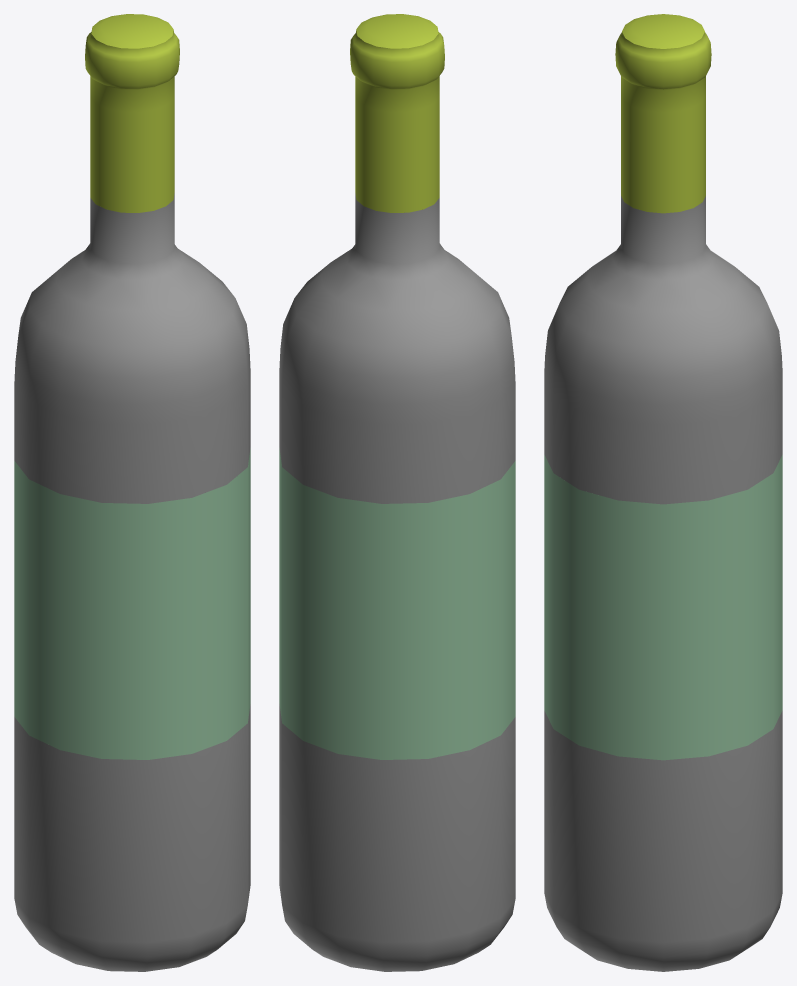
File: House_Bottles.FBX
The picture shows the model from 3 angles, left to right: view 1: azimuth 30°, elevation 25°; view 2: azimuth 150°, elevation 25°; view 3: azimuth 270°, elevation 25°; orthographic projection.
Visible parts, largest first — view 1: House_Bottles_Glass, House_Bottles_Pic, House_Bottles_Open; view 2: House_Bottles_Glass, House_Bottles_Pic, House_Bottles_Open; view 3: House_Bottles_Glass, House_Bottles_Pic, House_Bottles_Open.
Part boxes in pixels (x1=…): House_Bottles_Glass: x1=14, y1=193, x2=250, y2=971; House_Bottles_Pic: x1=14, y1=448, x2=250, y2=759; House_Bottles_Open: x1=85, y1=14, x2=179, y2=212; House_Bottles_Glass: x1=279, y1=193, x2=515, y2=971; House_Bottles_Pic: x1=279, y1=448, x2=515, y2=759; House_Bottles_Open: x1=350, y1=14, x2=444, y2=212; House_Bottles_Glass: x1=544, y1=196, x2=782, y2=971; House_Bottles_Pic: x1=544, y1=455, x2=782, y2=760; House_Bottles_Open: x1=615, y1=14, x2=711, y2=213.
Size of the model in its own units: 8.73 by 37.06 by 8.73.
